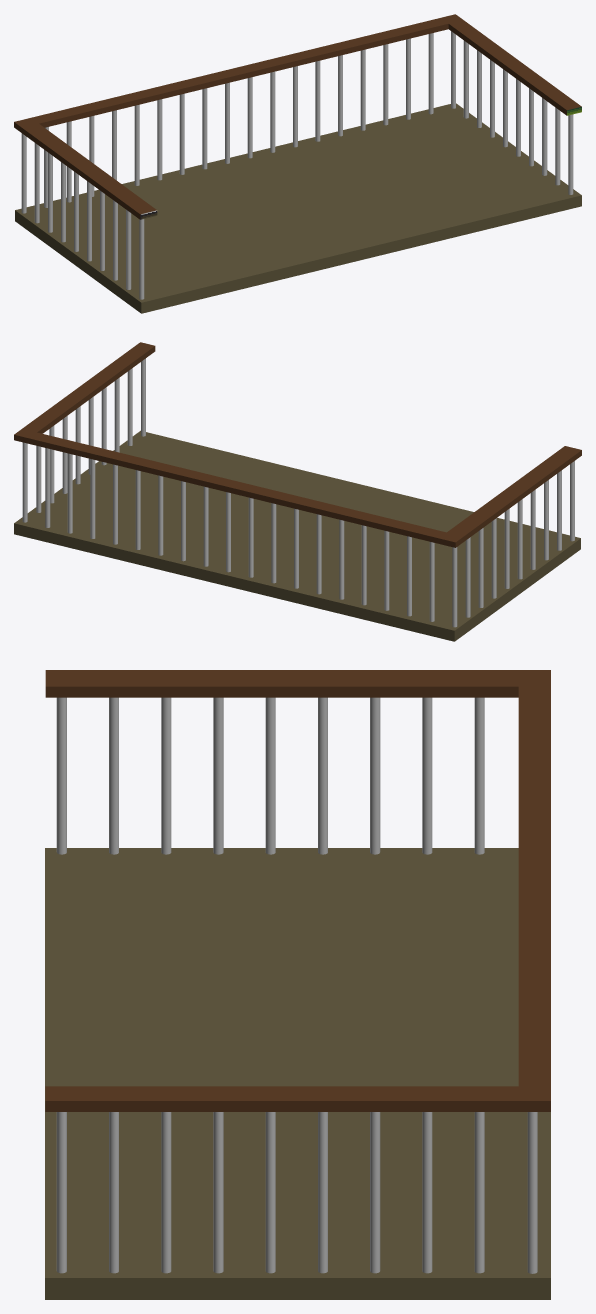
The model's file is Balcony.fbx.
3 views of the same model, one above another, from view 1: azimuth 30°, elevation 25°; view 2: azimuth 150°, elevation 25°; view 3: azimuth 270°, elevation 25° (orthographic). The views are drawn at different scales.
Parts seen in each view (by area): view 1: BalkonaStilbi_Front.001; view 2: BalkonaStilbi_Front.001; view 3: BalkonaStilbi_Front.001.
Boxes of the visible parts, <box> form: BalkonaStilbi_Front.001: <box>14,14,581,313</box>; BalkonaStilbi_Front.001: <box>14,342,581,641</box>; BalkonaStilbi_Front.001: <box>45,670,550,1299</box>.
Bounding box in the file's own units: 504 × 109 × 250.
Materials: 1 (1 with a texture image).
